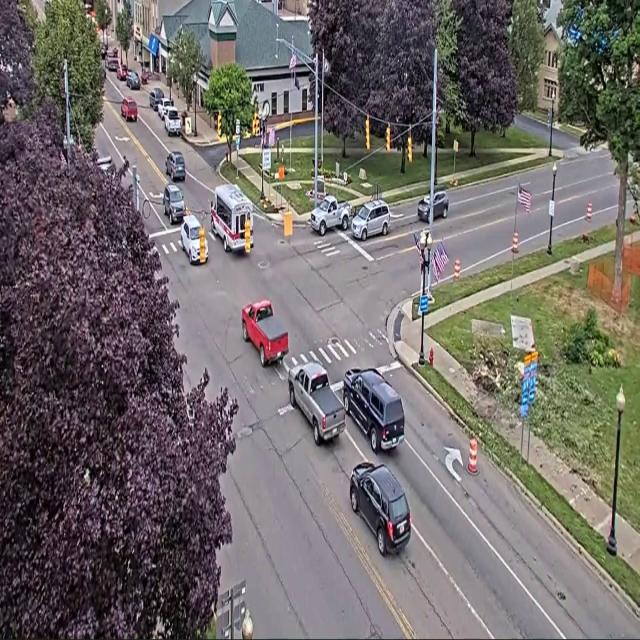car: (350, 462, 411, 555), (343, 368, 404, 453), (351, 200, 390, 240), (181, 215, 202, 264), (163, 184, 185, 223), (166, 152, 185, 181), (164, 107, 181, 135), (433, 191, 448, 219), (121, 97, 137, 121), (149, 87, 165, 111), (156, 97, 173, 119), (126, 71, 140, 89), (97, 156, 112, 172), (106, 57, 120, 72), (117, 64, 128, 81), (101, 43, 107, 59)
traffic signal: (199, 226, 206, 263), (244, 217, 251, 253), (252, 112, 259, 136), (385, 125, 391, 152), (408, 135, 412, 162), (217, 112, 221, 137), (366, 117, 369, 150)
truck: (288, 362, 345, 445), (242, 300, 288, 367), (310, 195, 351, 236)
